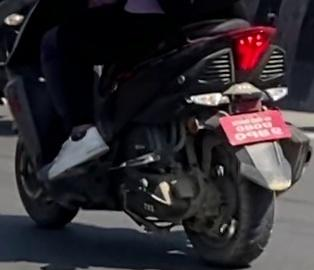license-plate: (214, 104, 295, 154)
